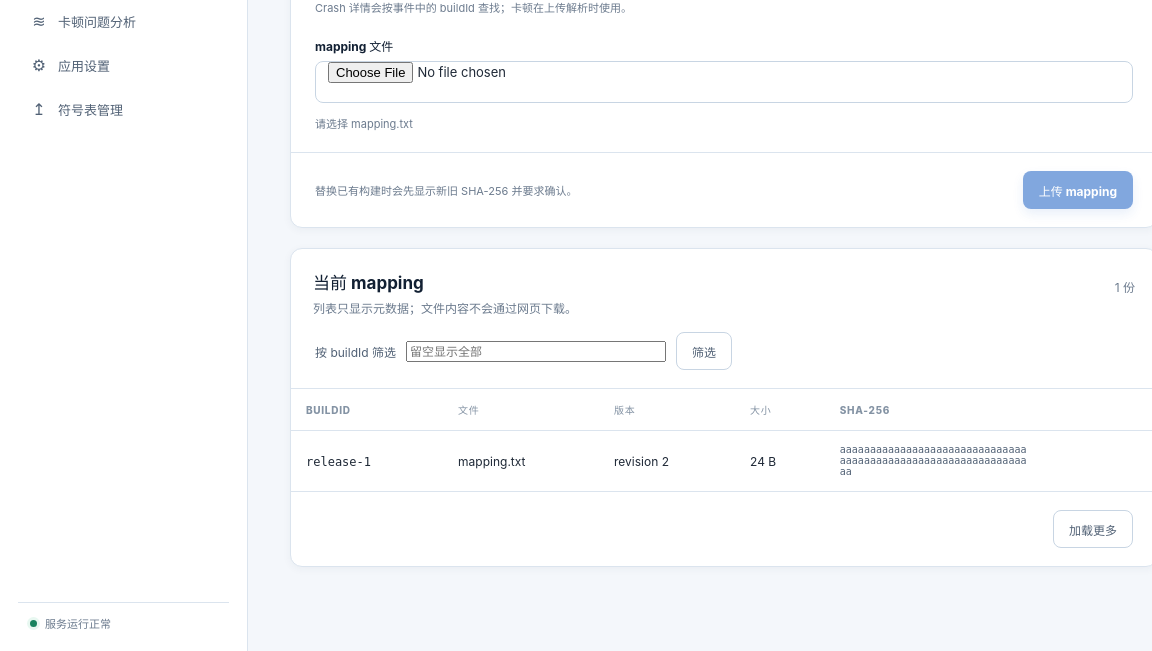
Scenario: SymbolFilesView › appends a cursor page without losing the first page
(page scrolled)
Click the button "加载更多".
click(1093, 529)  # box 1053,510 -> 1133,548
(page scrolled)
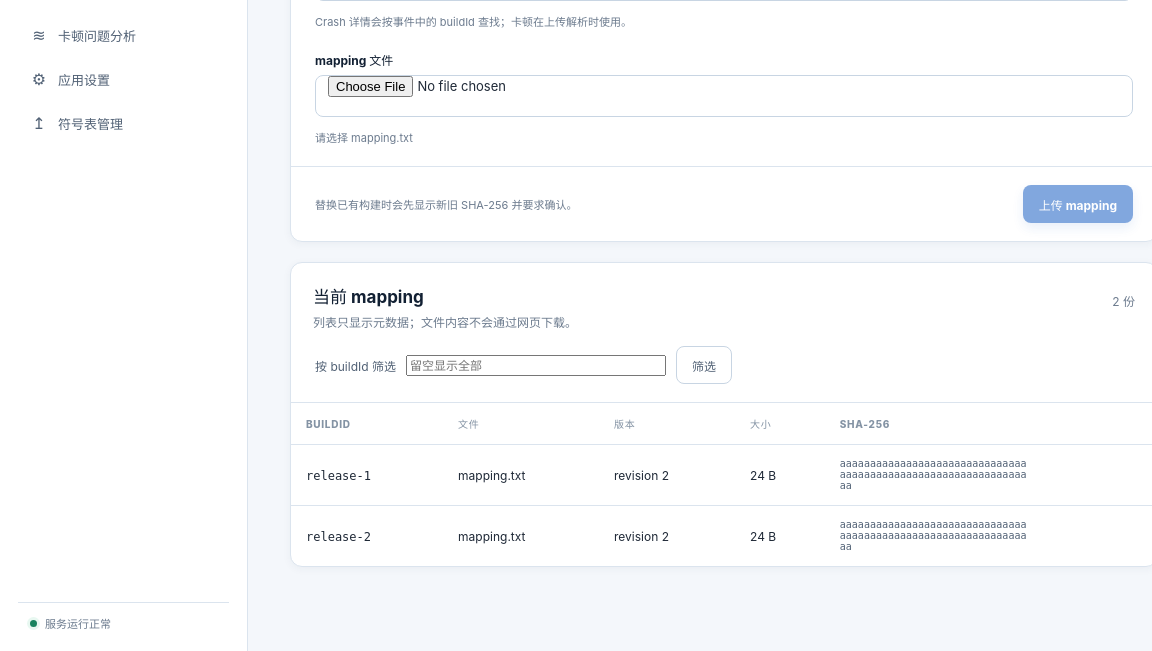
expect the text "release-1" is shown: met, box 306,468 -> 371,482
expect the text "release-2" is shown: met, box 306,530 -> 371,544
